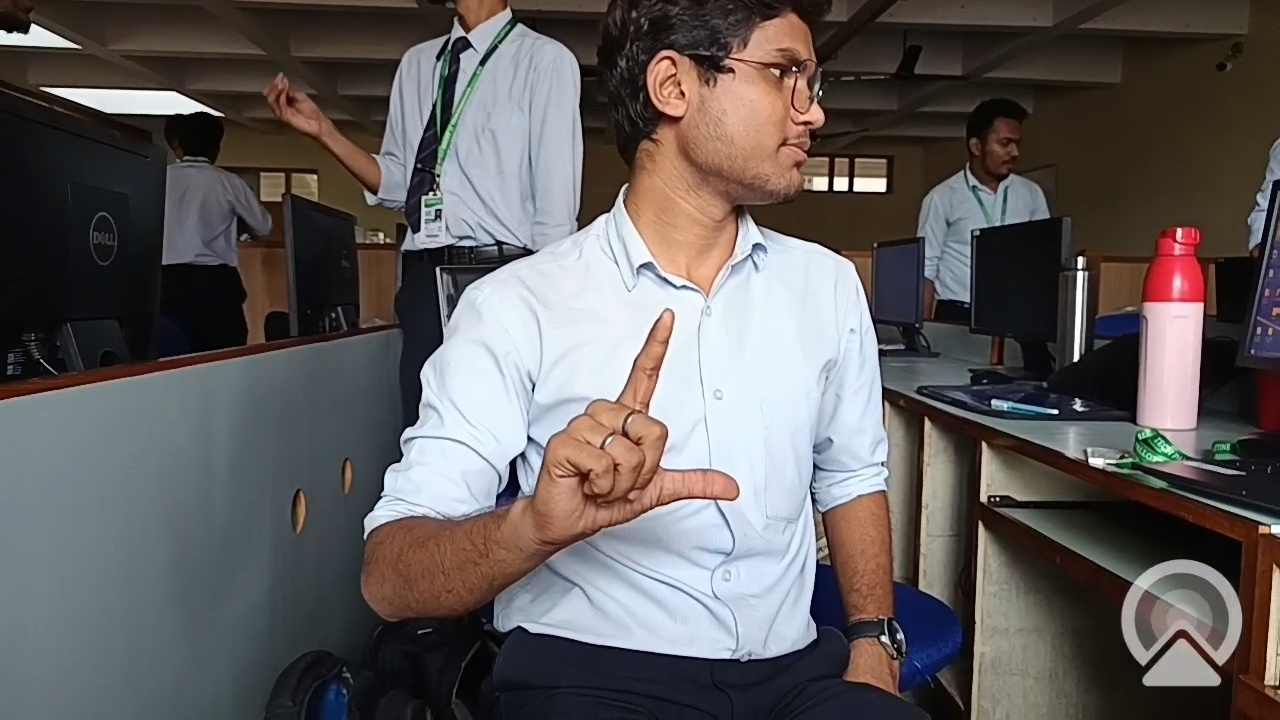L: (521, 289, 766, 588)
